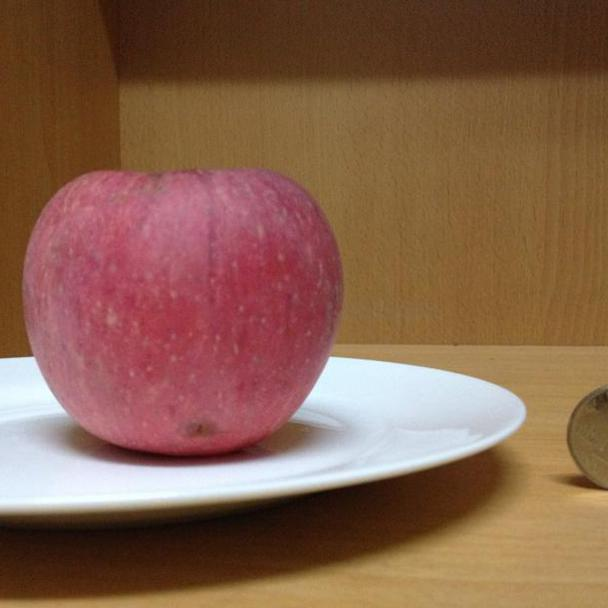apple: (22, 166, 342, 459)
